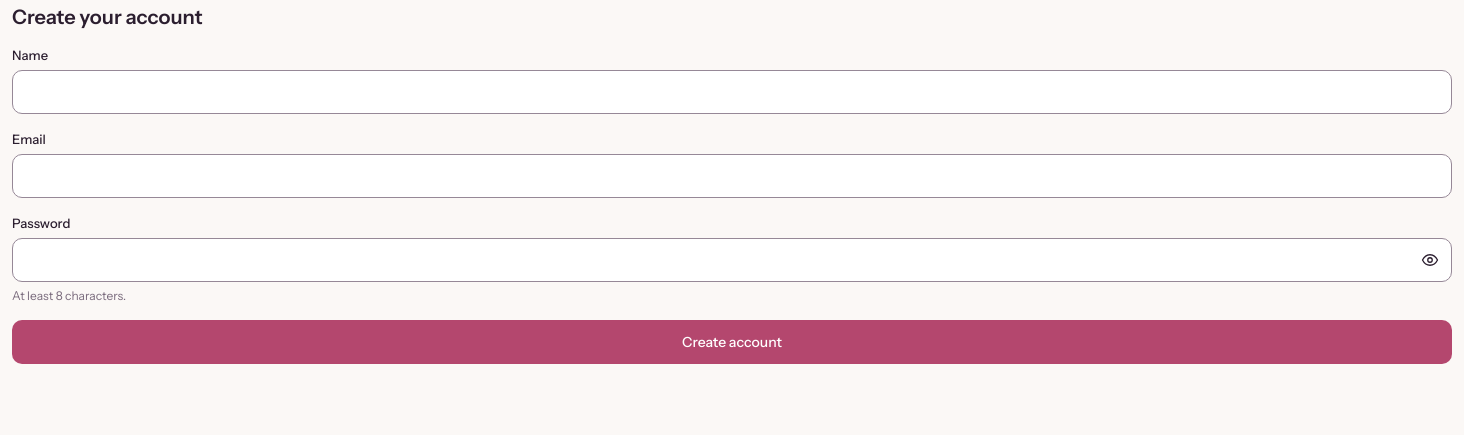
error messages › PASSWORD_TOO_SHORT
This screenshot has width=1464, height=435.
Type "Ana" into the field labelled "Name" at (732, 92), box [12,70,1452,114]
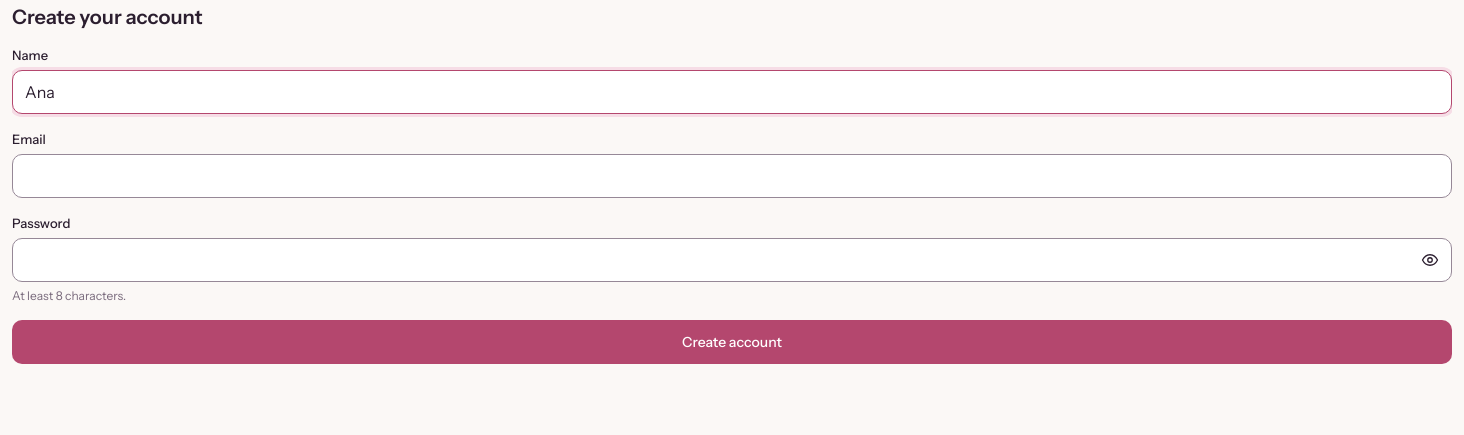
Type "ana@example.com" into the field labelled "Email" at (732, 176), box [12,154,1452,198]
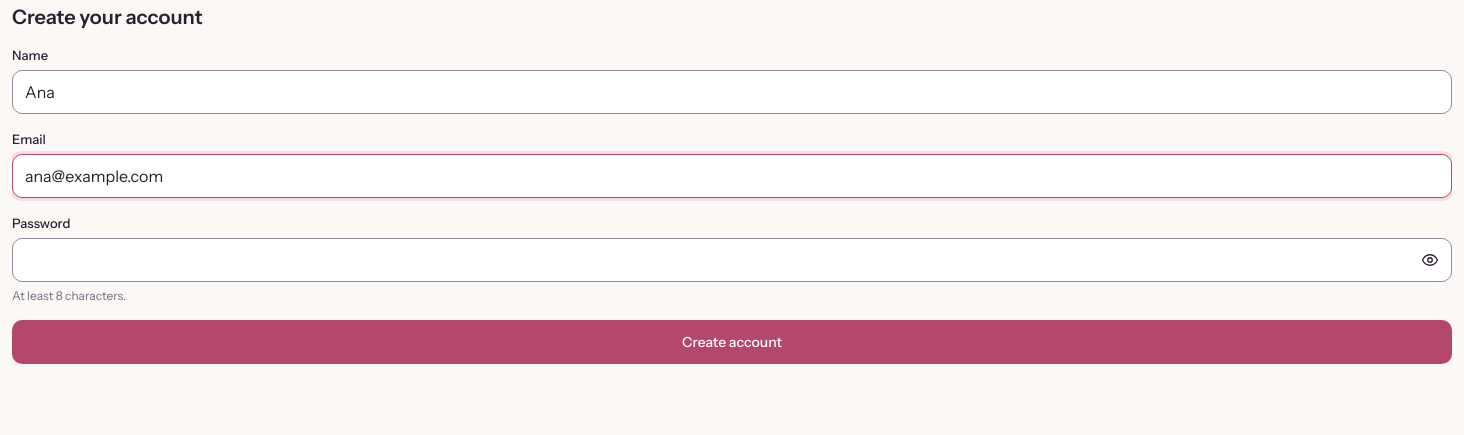
Type "pas-de-deux" into the password field labelled "Password" at (732, 260), box [12,238,1452,282]
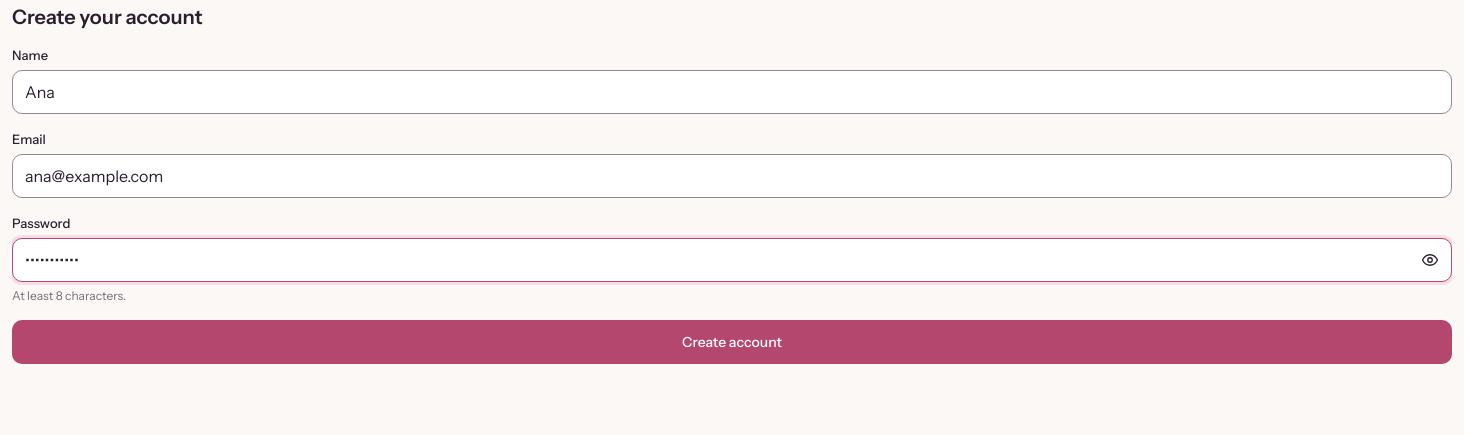
Click the button "Create account" at (732, 342), box [12,320,1452,364]
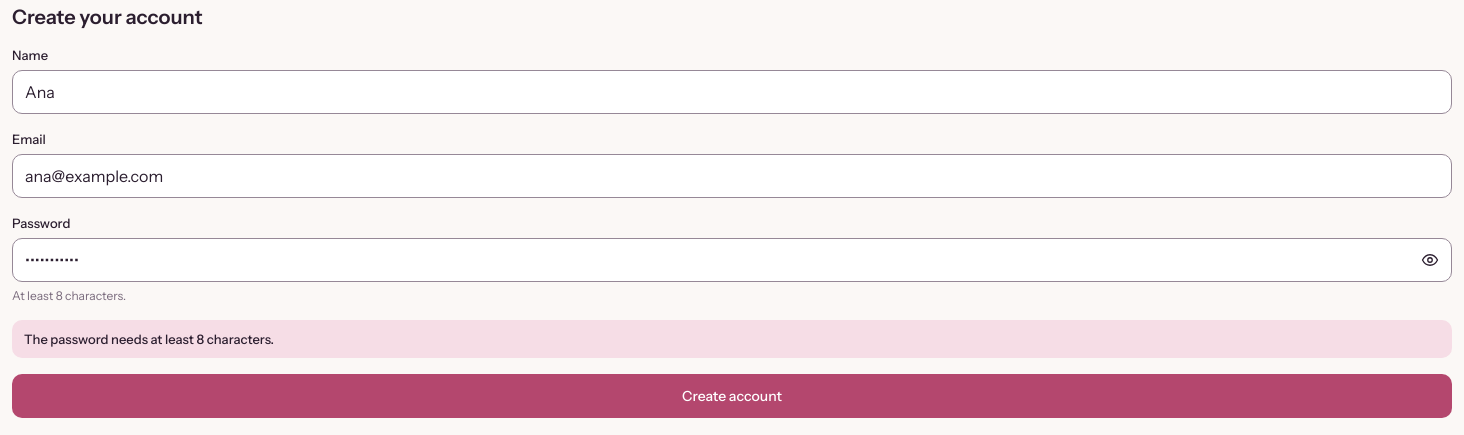
expect the message reads "The password needs at least 8 characters.": met, box [24,331,274,347]
